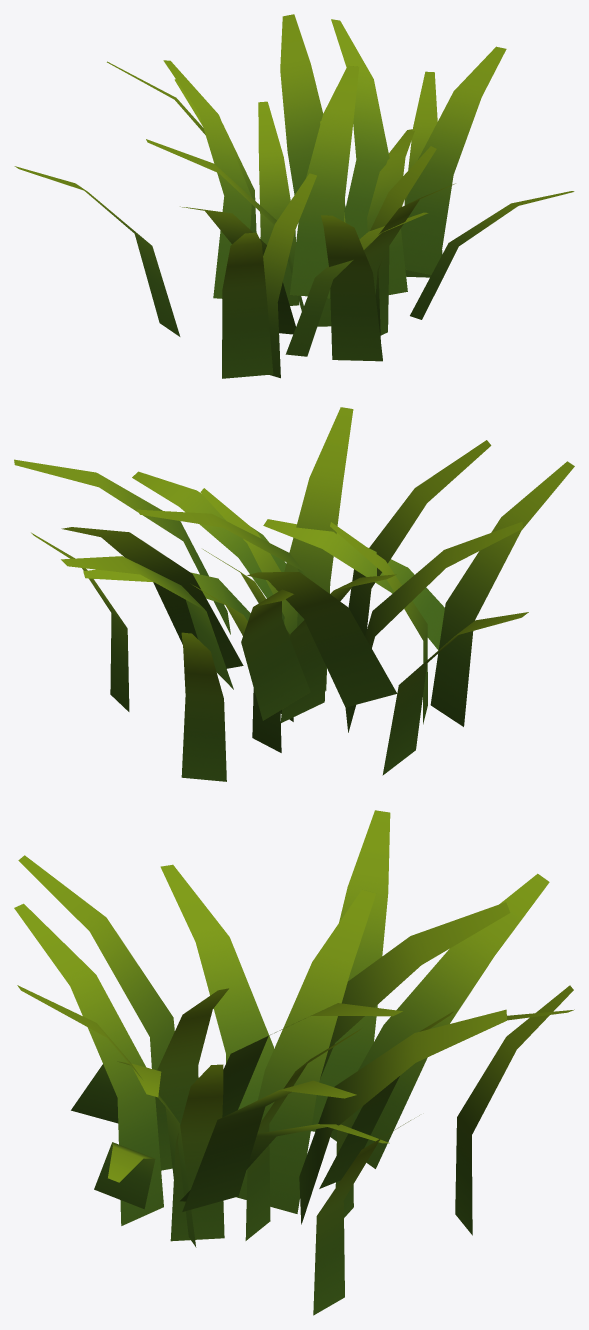
The model's file is SM_Grass2.fbx.
The picture shows the model from 3 angles, top to bottom: view 1: azimuth 30°, elevation 25°; view 2: azimuth 150°, elevation 25°; view 3: azimuth 270°, elevation 25°; orthographic projection. The views are drawn at different scales.
Visible parts, largest first — view 1: grass9; view 2: grass9; view 3: grass9.
Part boxes in pixels (x1,y1,x2,y2): grass9: (14,14,574,378); grass9: (14,407,574,781); grass9: (14,810,574,1315).
Bounding box in the file's own units: 79.19 × 34.19 × 61.61.
1 material, 1 textured.
